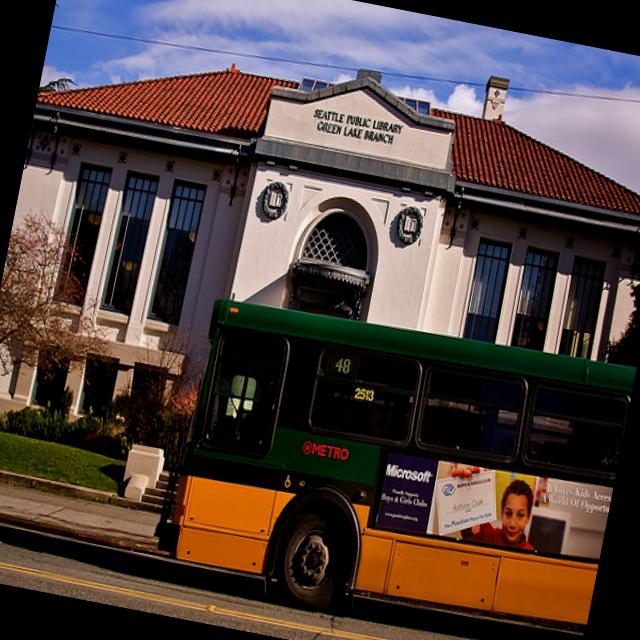Vehicle: (155, 285, 637, 640)
